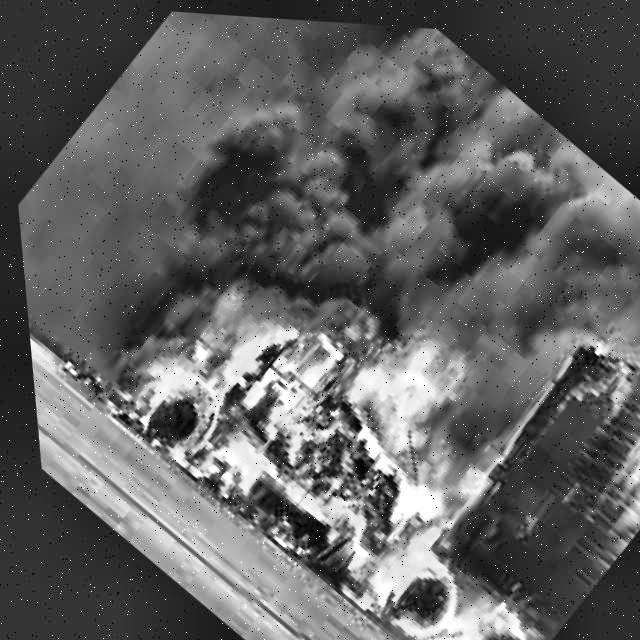Fire: (105, 192, 640, 640)
Smoke: (141, 7, 640, 522), (0, 0, 453, 417)
